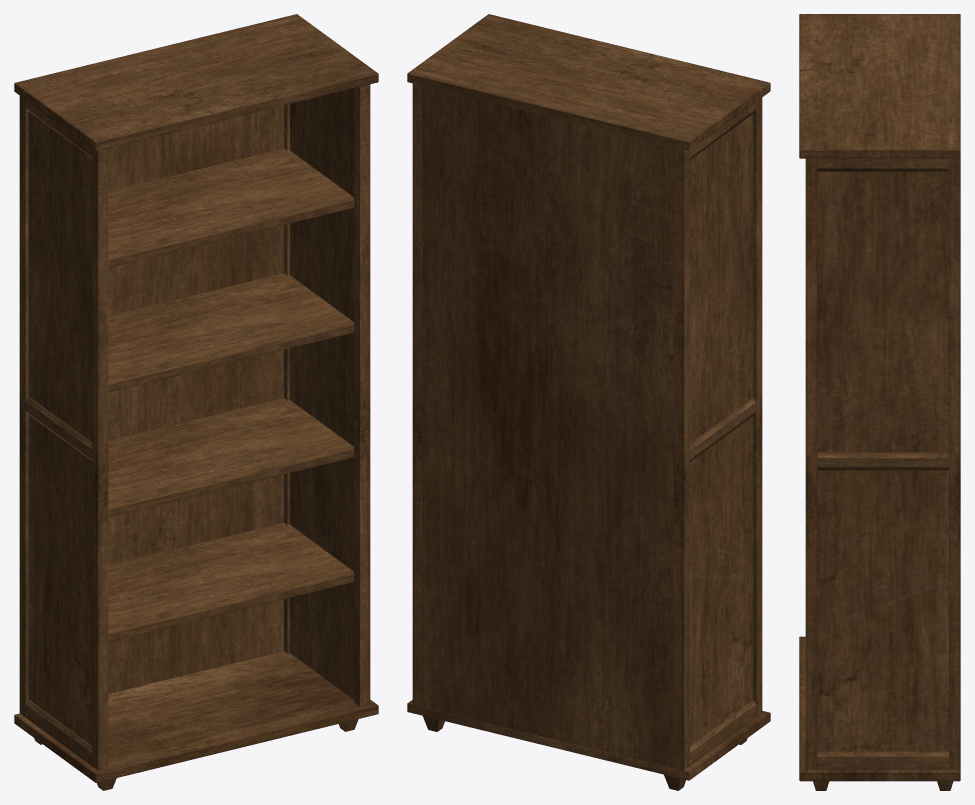
Rendered from Bookshelf.glb.
3 renders of one model, left to right at view 1: azimuth 30°, elevation 25°; view 2: azimuth 150°, elevation 25°; view 3: azimuth 270°, elevation 25°, orthographic.
Visible parts, largest first — view 1: Estante; view 2: Estante; view 3: Estante.
Boxes of the visible parts, x1=… form: Estante: x1=14, y1=14, x2=378, y2=790; Estante: x1=407, y1=14, x2=770, y2=790; Estante: x1=799, y1=14, x2=960, y2=790.
Bounding box in the file's own units: 0.833 × 1.85 × 0.4165.
1 material, 1 textured.
